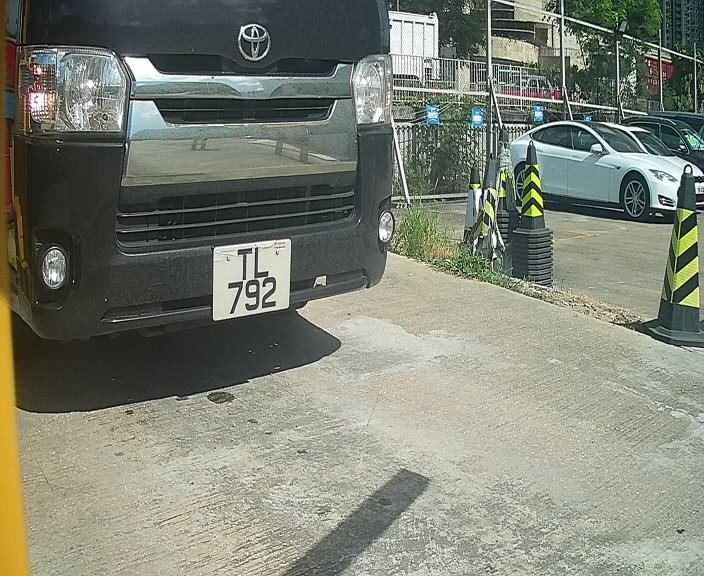License Plate: (208, 237, 296, 322)
